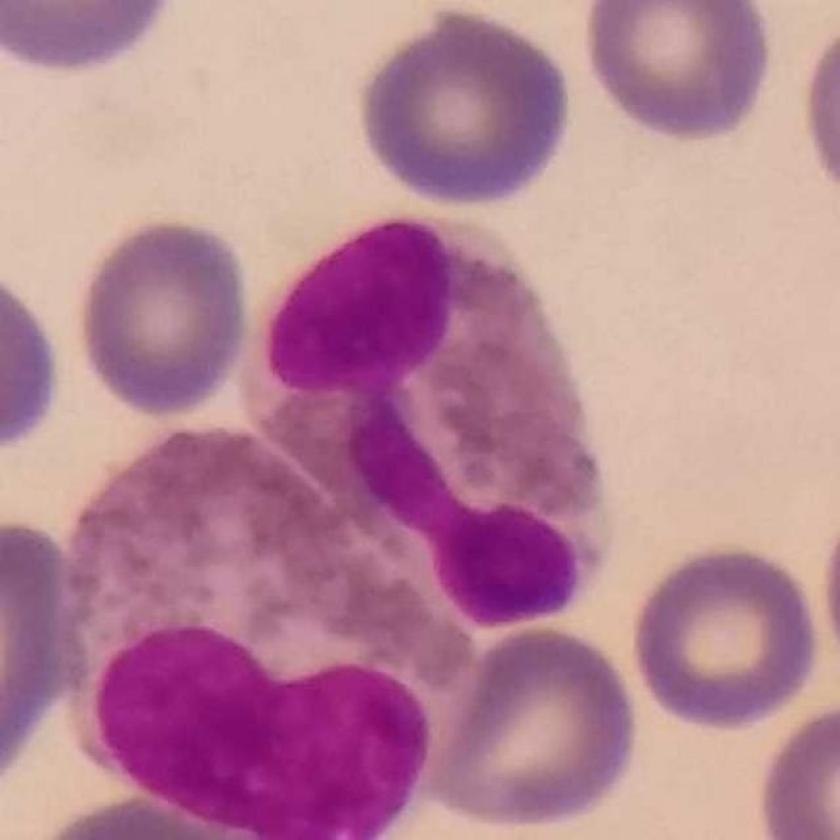eosinophil: (62, 425, 486, 840), (236, 208, 620, 630)
